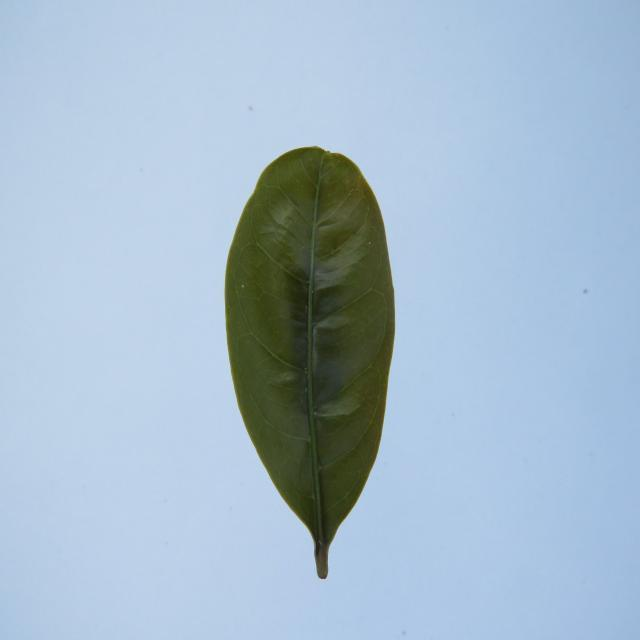DeficienciaNutricional-Boro: (225, 147, 395, 578)
